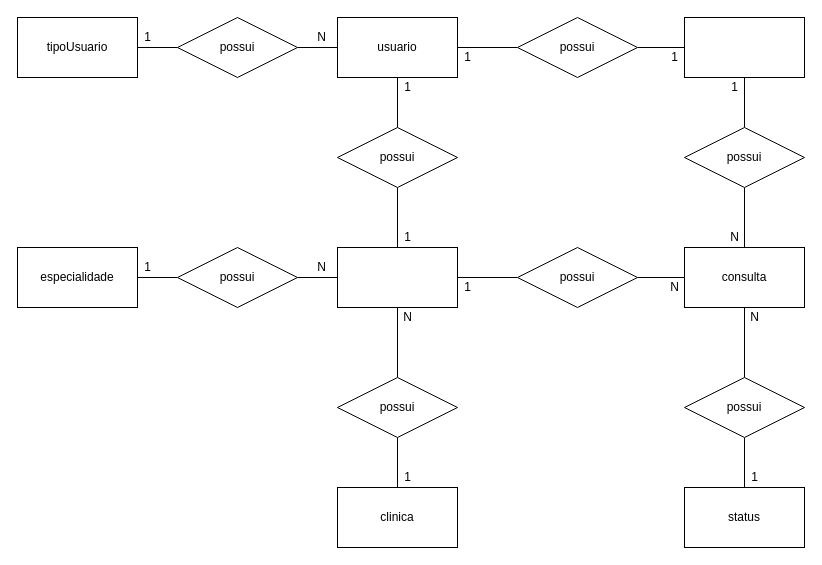
This 822x565 diagram has some shape labels left out. Each missing label, with the box of its shape:
medico: (336, 246, 458, 308)
paciente: (684, 16, 804, 78)
